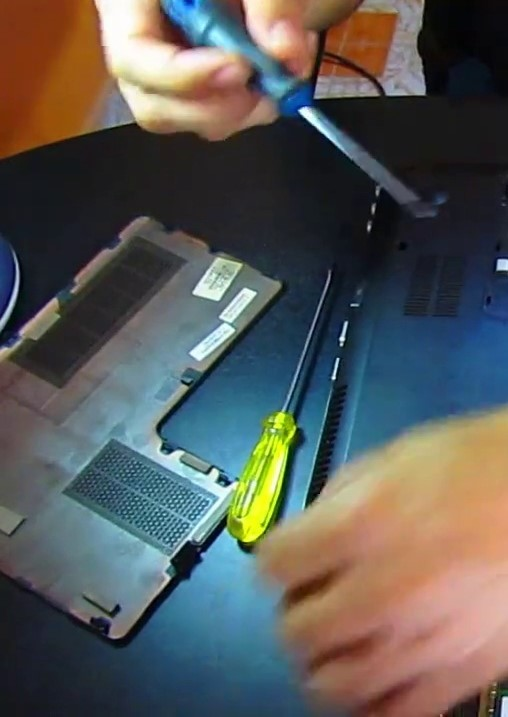screwdriver: (154, 1, 424, 213), (224, 265, 337, 546)
